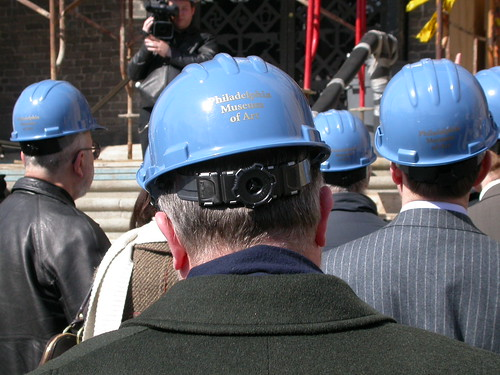person hardhat: (118, 50, 367, 375), (359, 48, 500, 358), (7, 77, 118, 365), (307, 97, 390, 263), (471, 47, 500, 250)
